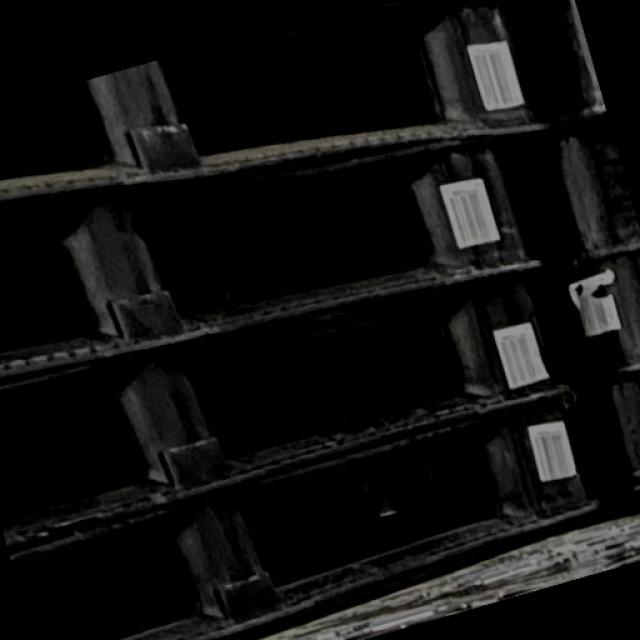igps: (0, 253, 582, 550), (0, 390, 614, 638), (0, 122, 552, 385), (0, 0, 554, 241)
